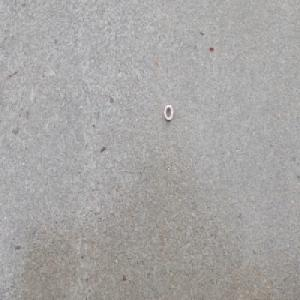Nut: (163, 104, 173, 121)
